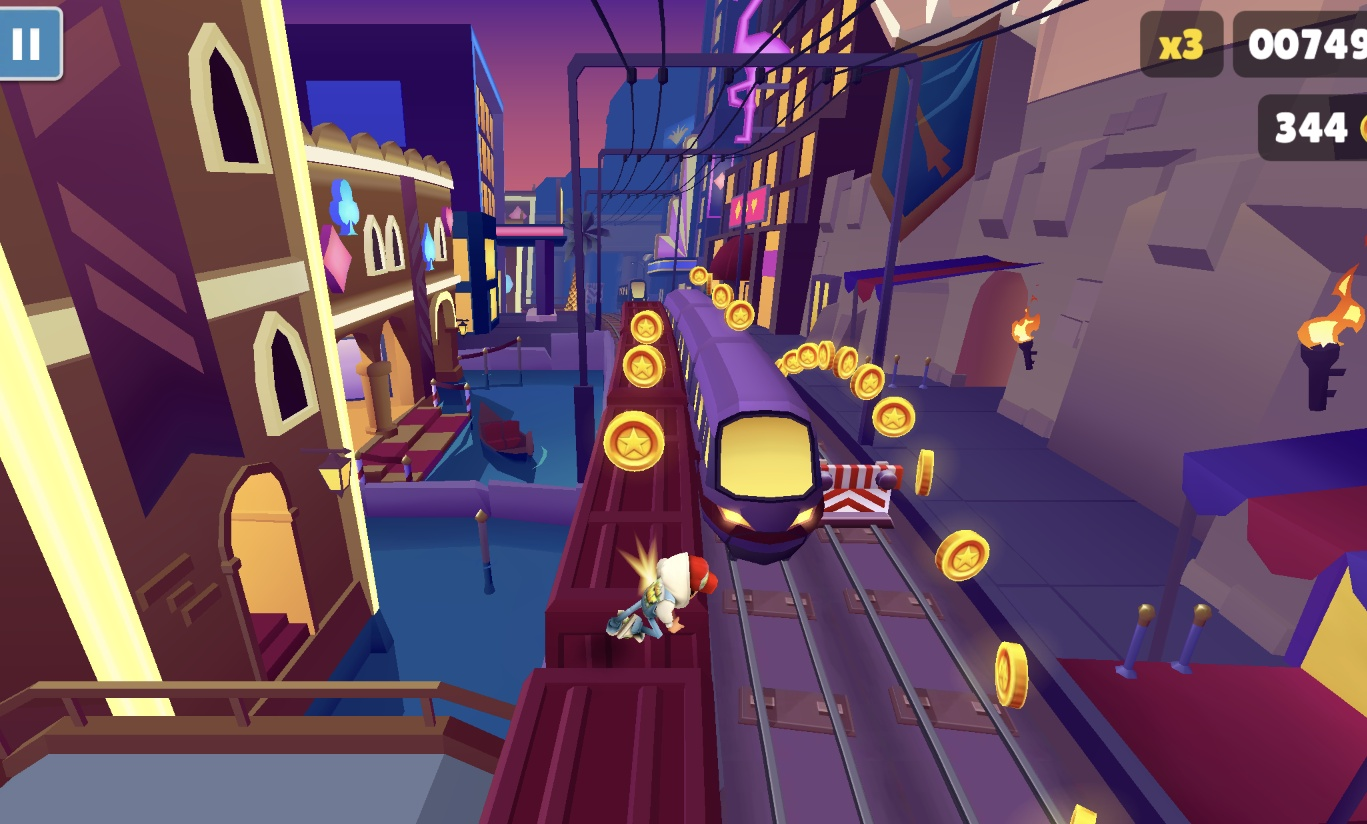ground_barrier: (816, 460, 905, 532)
train: (482, 302, 716, 824), (665, 289, 827, 562), (628, 280, 649, 303)
